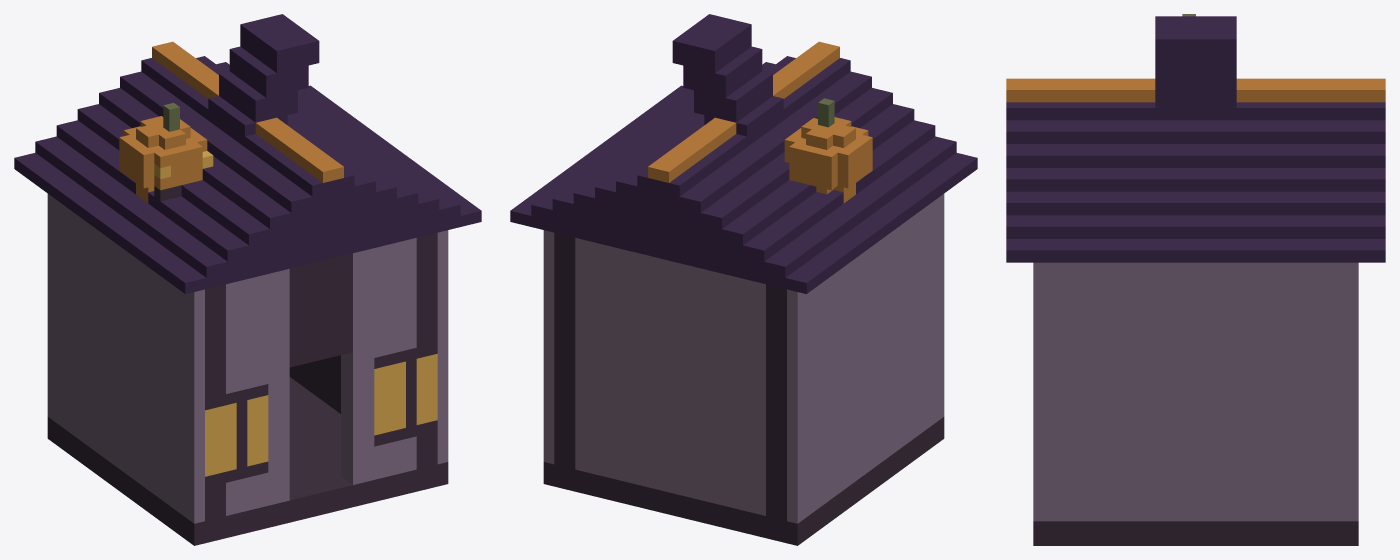
File: workshop.glb
3 views of the same model, side by side, from view 1: azimuth 30°, elevation 25°; view 2: azimuth 150°, elevation 25°; view 3: azimuth 270°, elevation 25° (orthographic). The views are drawn at different scales.
Parts seen in each view (by area): view 1: Shell; view 2: Shell; view 3: Shell.
Part boxes in pixels (x1=…): Shell: x1=14, y1=14, x2=481, y2=545; Shell: x1=510, y1=14, x2=977, y2=545; Shell: x1=1006, y1=14, x2=1385, y2=545.
Bounding box in the file's own units: 3.5 × 4.75 × 3.5.
